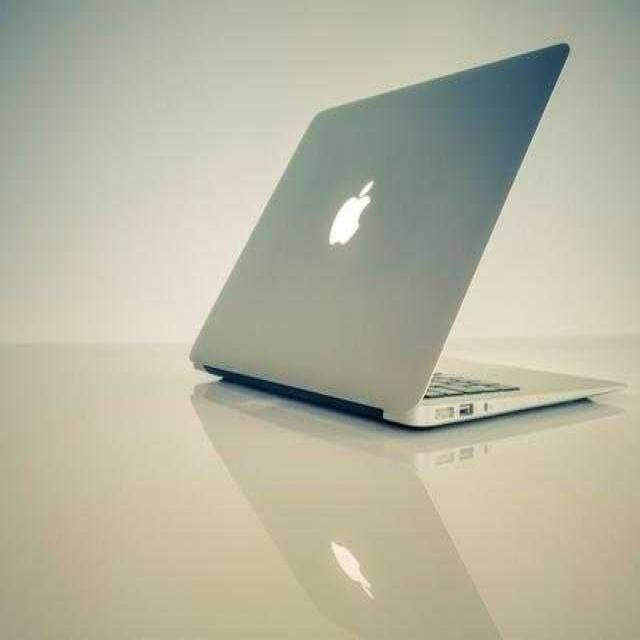laptop: (235, 49, 633, 430)
